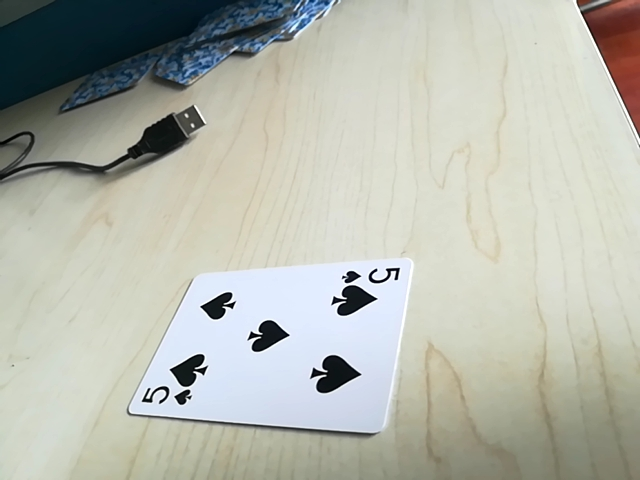ht 5: (131, 381, 200, 413), (340, 260, 402, 289)
